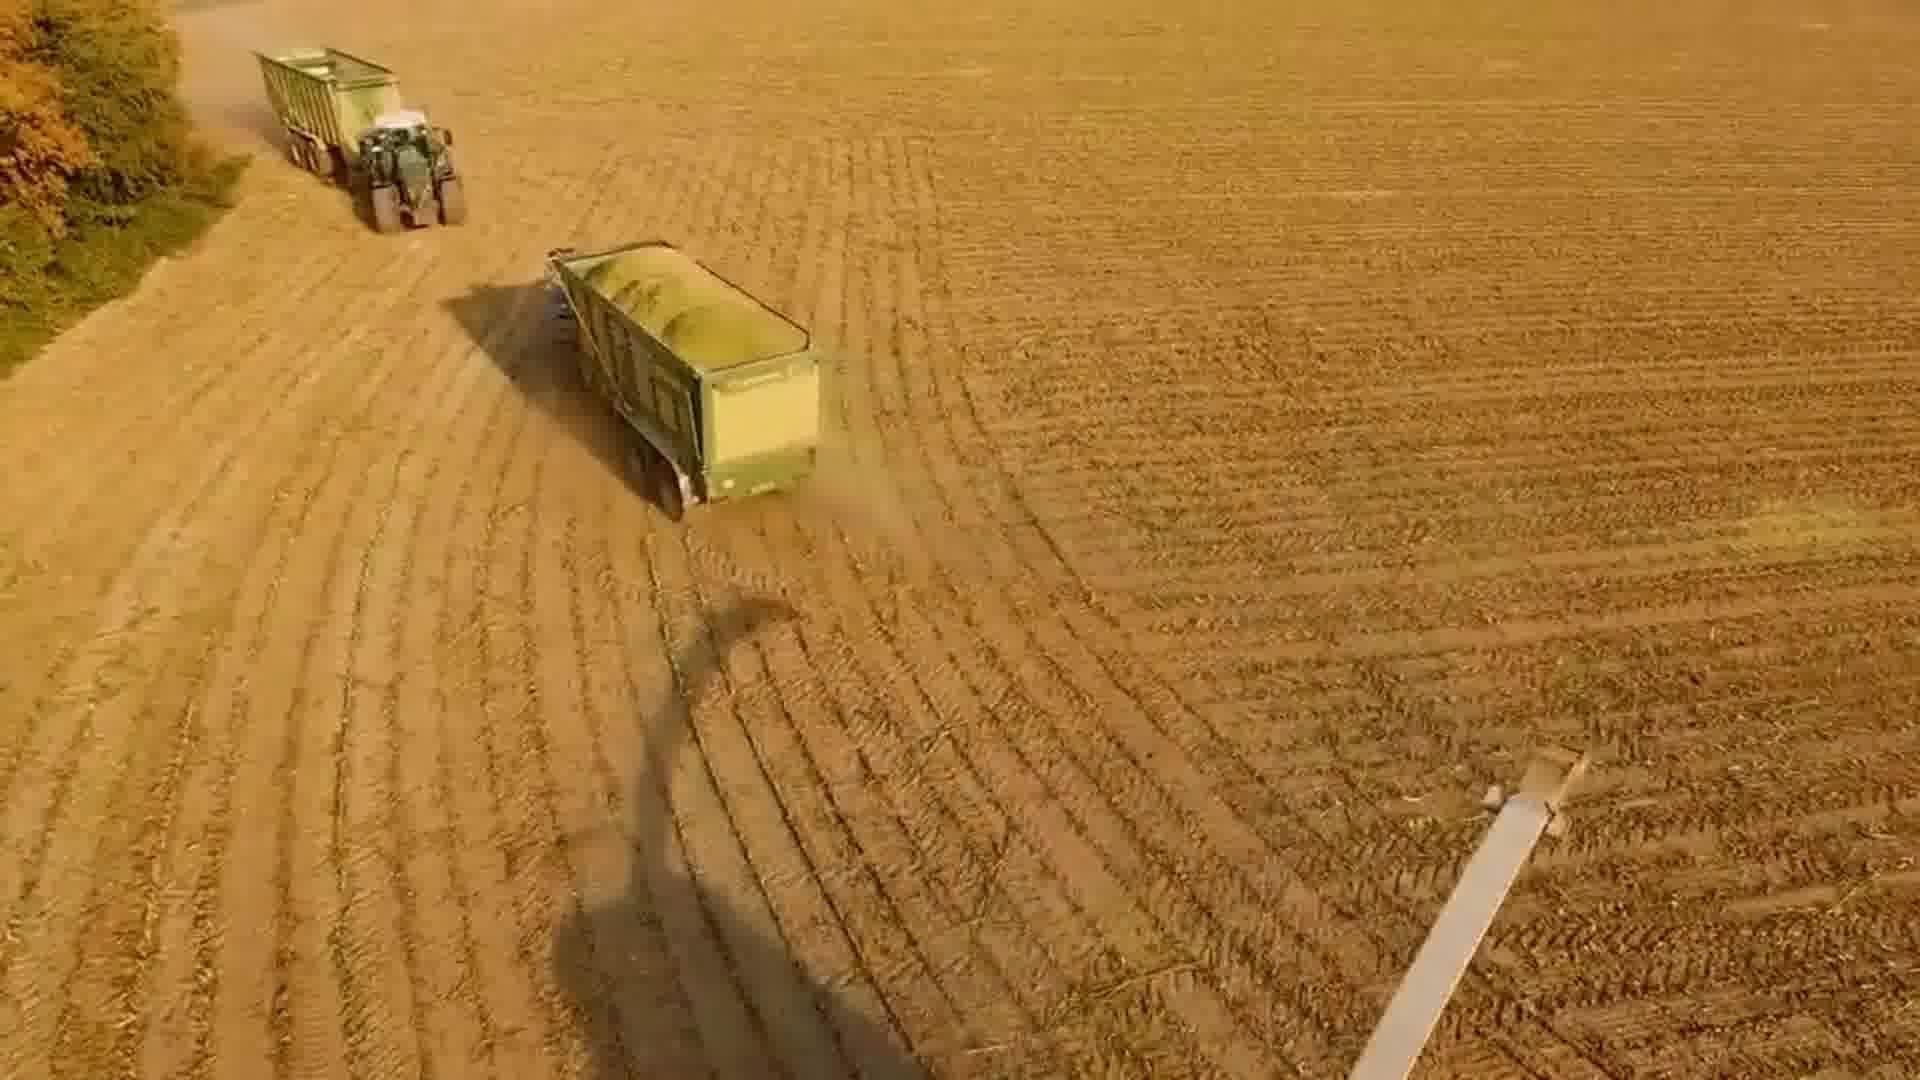tractor: (352, 109, 475, 241)
trailer: (556, 237, 837, 530), (252, 33, 406, 193)
